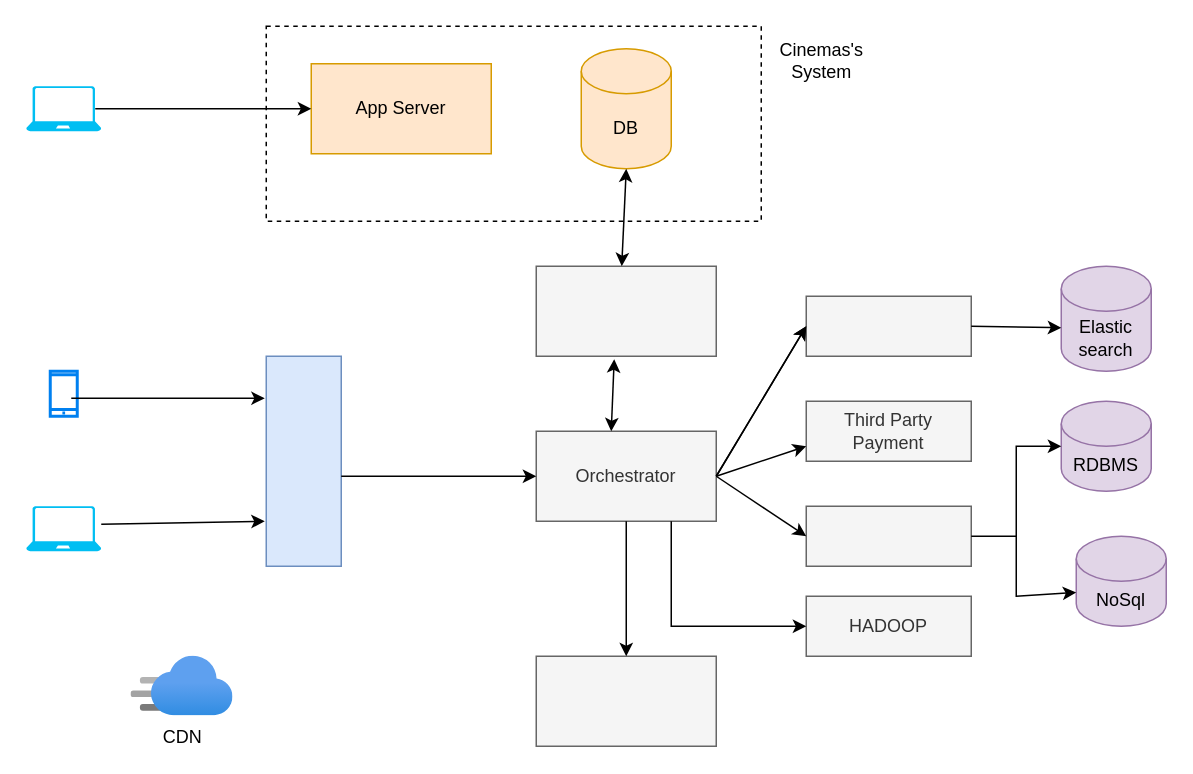
The diagram is 1193 pixels wide and 774 high, and some of its shapes have lost their labels. The shapes that lost their labels are listed below. From the top down, each one's centre as x and y in pixels, then its label:
At point (625, 310): "Booking Service".
At point (888, 325): "Search service".
At point (303, 460): "LB".
At point (888, 535): "Cache".
At point (625, 700): "Notification Service".
